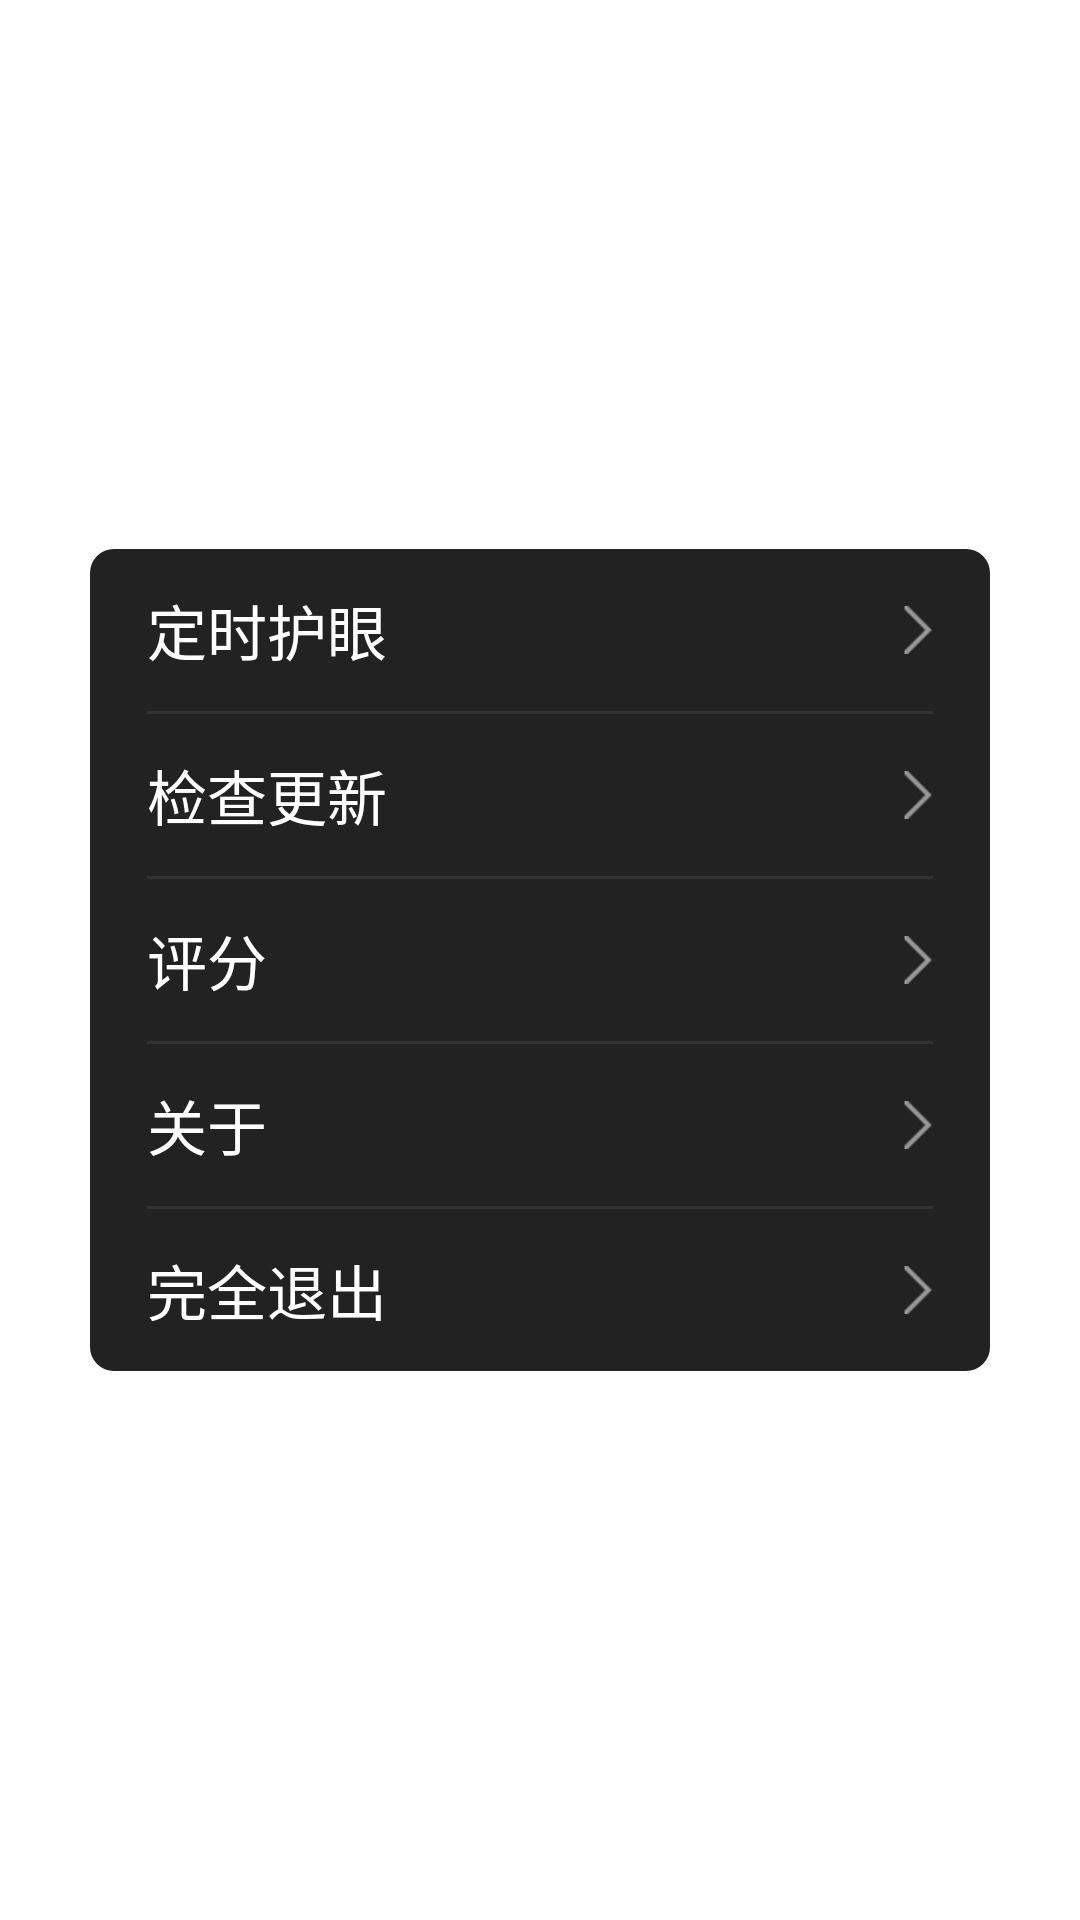

Where to tap for icons on this 1080 × 1920 app screen, as [x,y]:
eyes popupview more: [918,630], [918,795], [918,960], [918,1125], [918,1290]
